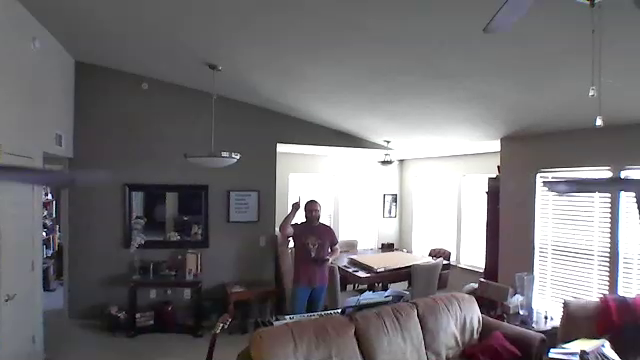up: (290, 195, 302, 212)
